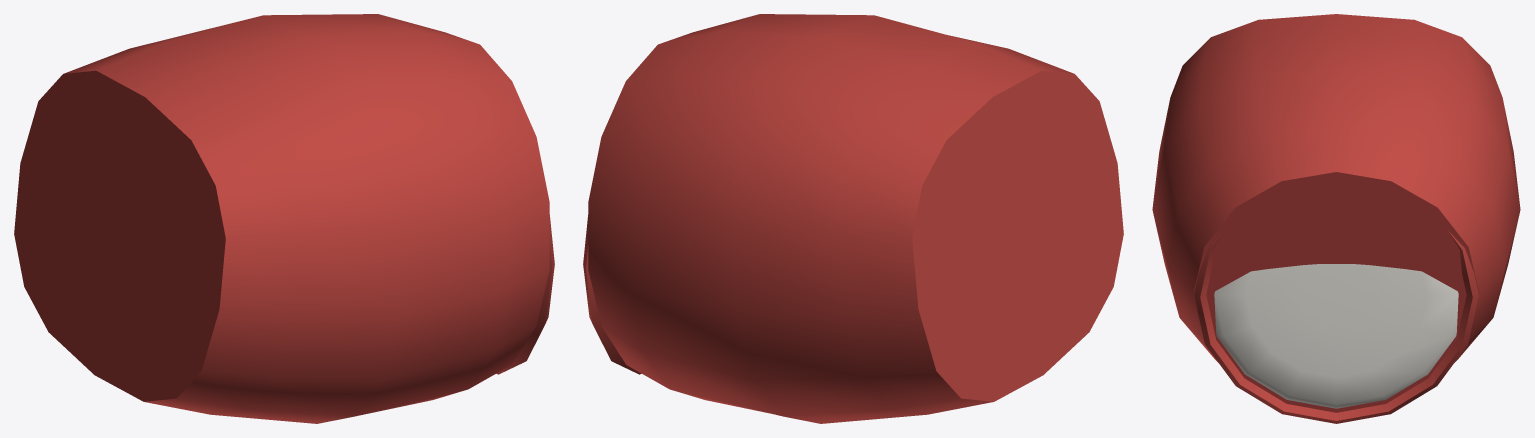
File: nacelle_lod1.glb
3 renders of one model, left to right at view 1: azimuth 30°, elevation 25°; view 2: azimuth 150°, elevation 25°; view 3: azimuth 270°, elevation 25°, orthographic. The views are drawn at different scales.
Parts seen in each view (by area): view 1: nacelle_lod1; view 2: nacelle_lod1; view 3: nacelle_lod1.
Boxes of the visible parts, x1,y1,x2,y2 form: nacelle_lod1: [14, 14, 554, 423]; nacelle_lod1: [583, 14, 1123, 423]; nacelle_lod1: [1152, 14, 1520, 423].
Bounding box in the file's own units: 2.68 × 2.4 × 2.7.
